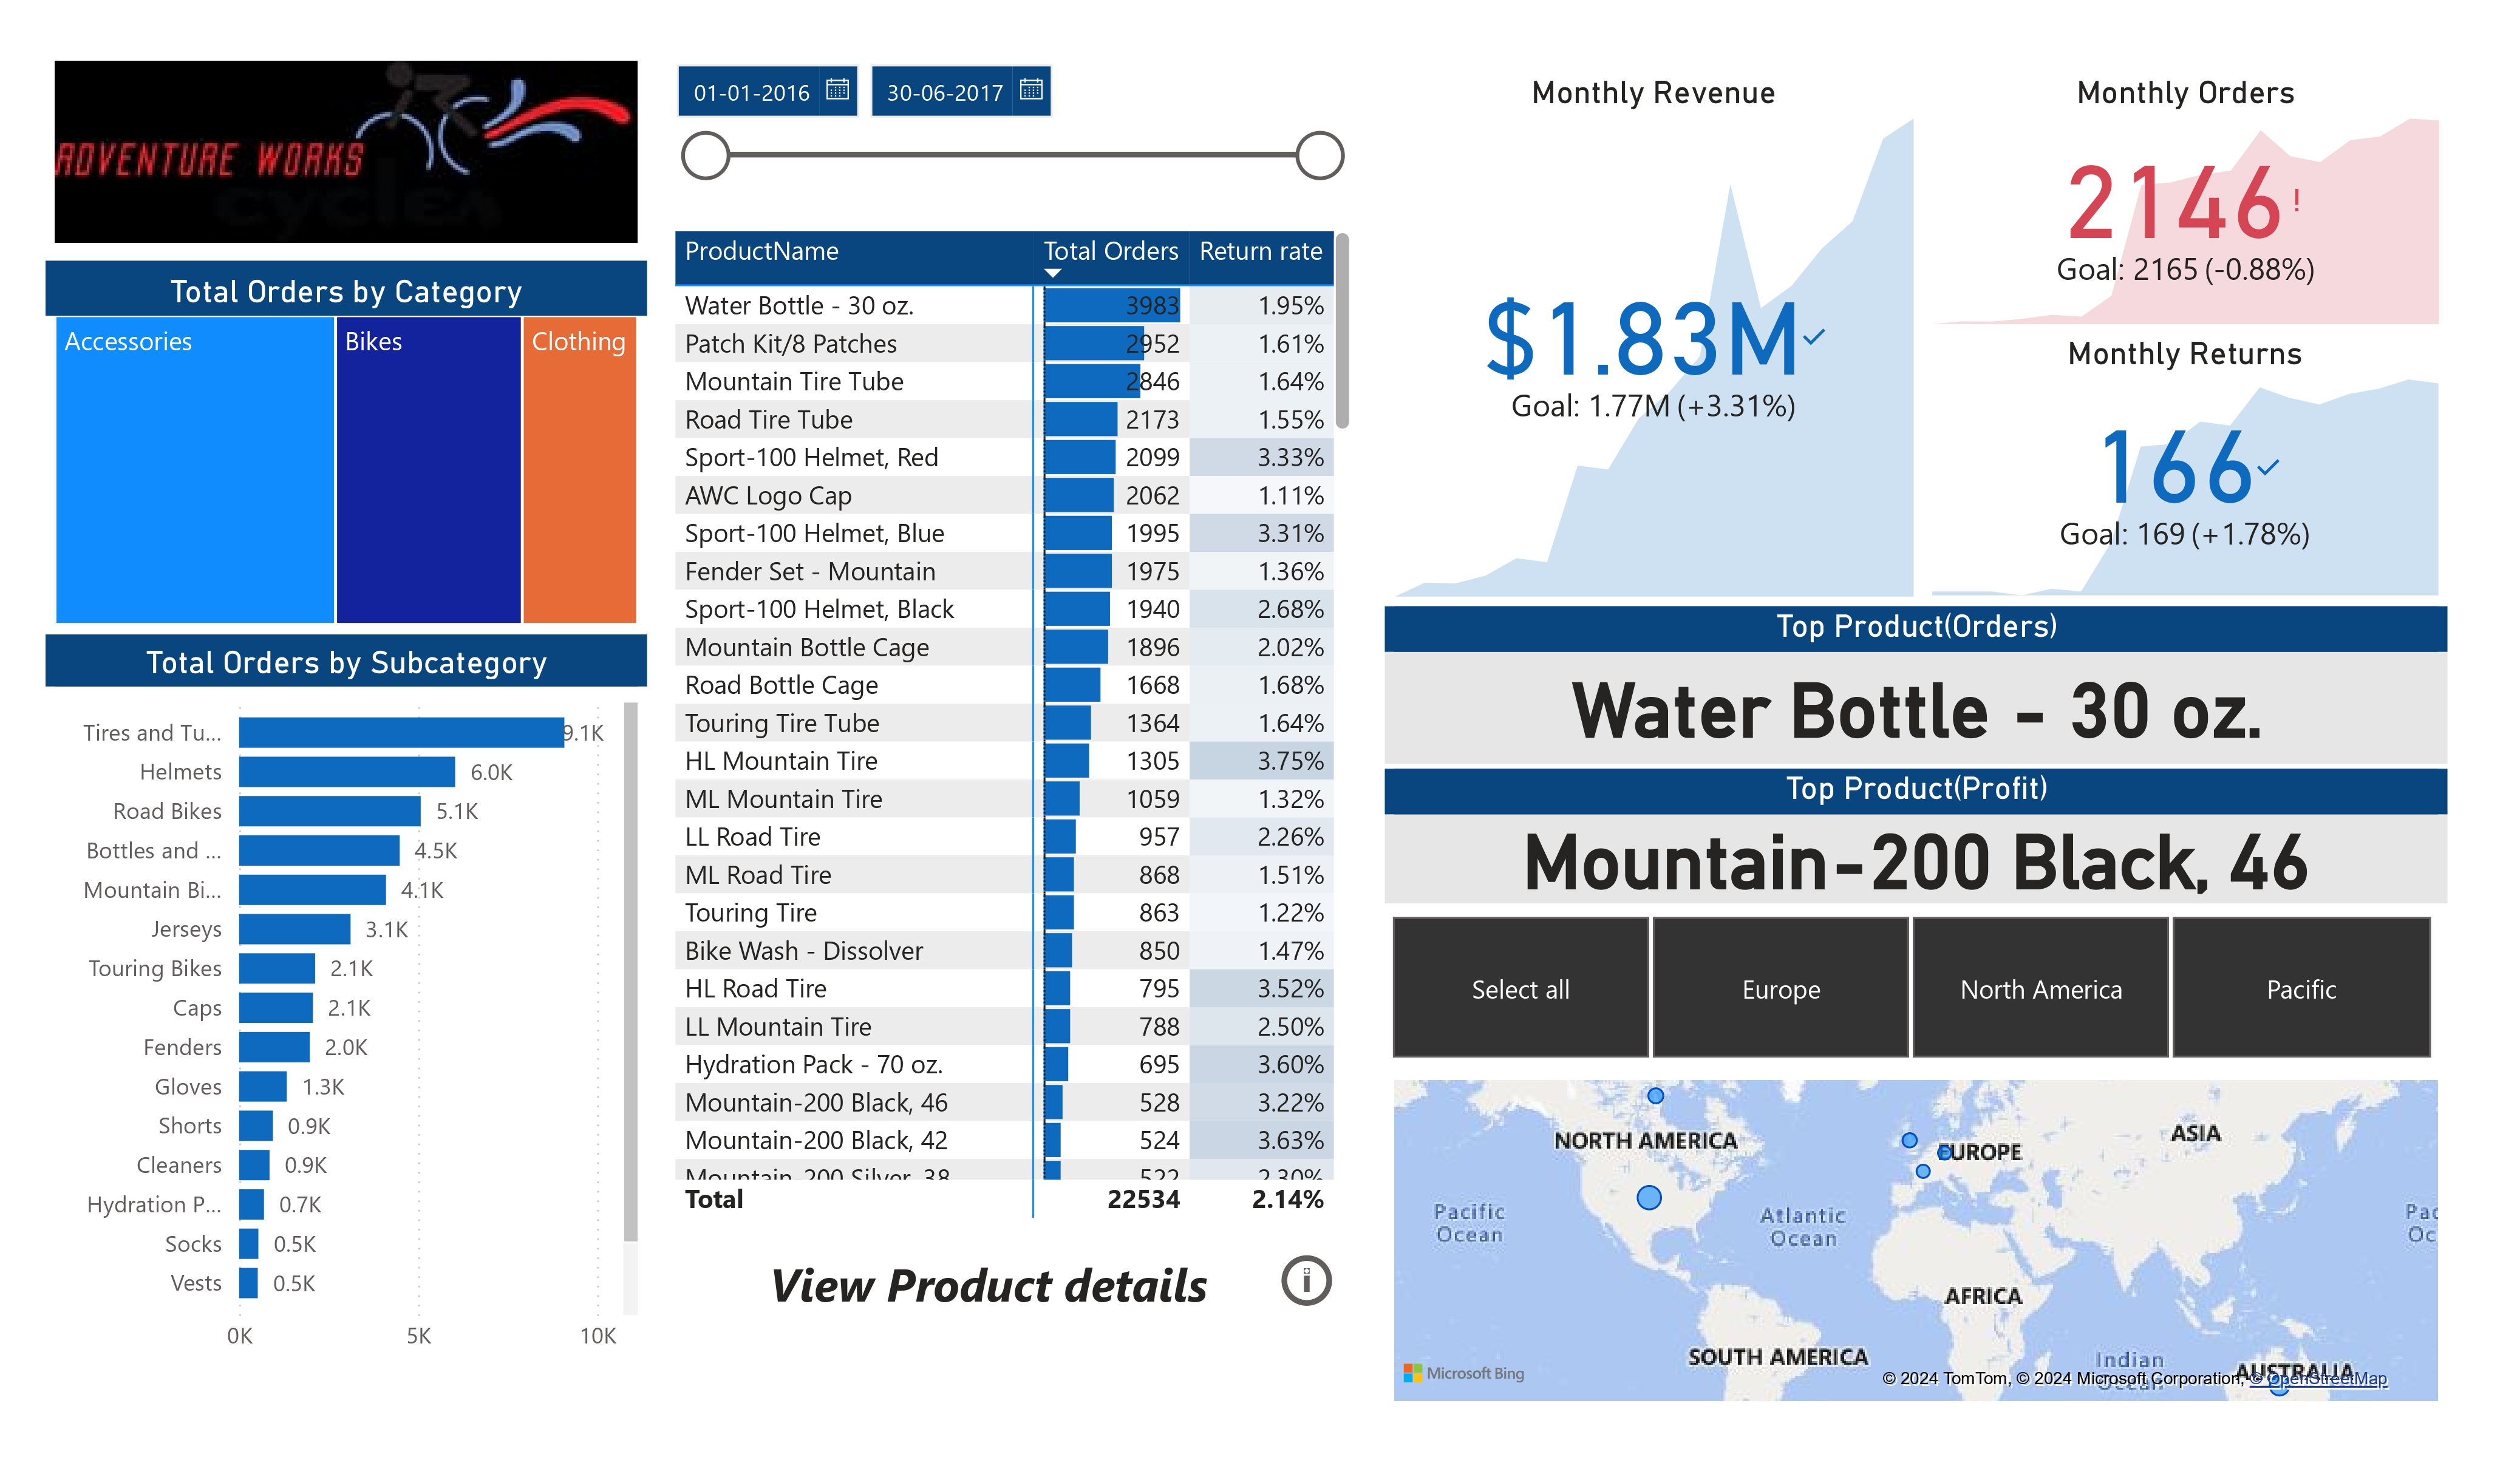

The page's visual inventory and layout, read from the dashboard file:
{"tool":"powerbi","page":{"name":"Exec Summary","canvas":[1280,720],"ordinal":0},"visuals":[{"type":"image","box":[0,0,317.4,112.8],"z":0},{"type":"barChart","title":"Total Orders by Subcategory","fields":{"Category":["AW_Product_Subcategory_Lookup.SubcategoryName"],"Y":["AW_Sales_csv.Total Ordes"]},"box":[0,309.3,317.4,389.5],"z":1000},{"type":"treemap","title":"Total Orders by Category","fields":{"Group":["AW_Product_Category_Lookup.CategoryName","AW_Product_Subcategory_Lookup.SubcategoryName"],"Values":["AW_Sales_csv.Total Orders"]},"box":[0,112.9,317,196.9],"z":2000},{"type":"pivotTable","fields":{"Values":["AW_Sales_csv.Total Orders","AW_Returns.Return rate"],"Rows":["AW_Product_Category_Lookup.CategoryName","AW_Product_Subcategory_Lookup.SubcategoryName","AW_Product_Lookup.ProductName"]},"box":[326.6,92.5,366.2,529.5],"z":3000},{"type":"slicer","fields":{"Values":["AW_Calender_Lookup.Date"]},"box":[319.8,0,373.3,94.2],"z":4000},{"type":"kpi","title":"Monthly Revenue","fields":{"Indicator":["AW_Sales_csv.Total Revenue"],"TrendLine":["AW_Calender_Lookup.Start of Month"],"Goal":["AW_Sales_csv.Prev Month Revenue"]},"box":[705.8,14,283.7,281.4],"z":5000},{"type":"kpi","title":"Monthly Returns","fields":{"TrendLine":["AW_Calender_Lookup.Start of Month"],"Indicator":["AW_Returns.Total returns"],"Goal":["AW_Sales_csv.Prev Month Returns"]},"box":[989.5,152.3,276.7,143],"z":6000},{"type":"kpi","title":"Monthly Orders","fields":{"TrendLine":["AW_Calender_Lookup.Start of Month"],"Indicator":["AW_Sales_csv.Total Orders"],"Goal":["AW_Sales_csv.Prev Month Orders"]},"box":[989.3,14.5,277.5,137.5],"z":7000},{"type":"card","title":"Top Product(Orders)","fields":{"Values":["Min(AW_Product_Lookup.ProductName)"]},"box":[705.8,295.3,560.5,82.6],"z":8000},{"type":"card","title":"Top Product(Profit)","fields":{"Values":["Min(AW_Product_Lookup.ProductName)"]},"box":[705.8,381.4,560.5,70.9],"z":9000},{"type":"slicer","fields":{"Values":["AW_Territories_Lookup.Continent"]},"box":[683.7,452.3,596.5,88.4],"z":10000},{"type":"map","fields":{"Category":["AW_Territories_Lookup.Country"],"Size":["AW_Sales_csv.Total Orders"]},"box":[705.8,540.7,560.5,179.1],"z":11000},{"type":"textbox","box":[353,630.4,287,46.8],"z":12000},{"type":"actionButton","box":[647.2,630.4,36,39.6],"z":13000}]}

Visuals, with their boxes in screenshot pixels (x1, y1, x2, y2):
image: 46, 46, 648, 260
"Total Orders by Subcategory" barChart: 46, 633, 648, 1371
"Total Orders by Category" treemap: 46, 260, 647, 633
pivotTable - AW_Sales_csv.Total Orders x AW_Returns.Return rate: 666, 221, 1360, 1226
slicer - AW_Calender_Lookup.Date: 652, 46, 1361, 224
"Monthly Revenue" kpi: 1385, 72, 1923, 606
"Monthly Returns" kpi: 1923, 335, 2448, 606
"Monthly Orders" kpi: 1923, 73, 2450, 334
"Top Product(Orders)" card: 1385, 606, 2448, 762
"Top Product(Profit)" card: 1385, 769, 2448, 903
slicer - AW_Territories_Lookup.Continent: 1343, 903, 2474, 1072
map - AW_Territories_Lookup.Country x AW_Sales_csv.Total Orders: 1385, 1072, 2448, 1411
textbox: 715, 1241, 1260, 1330
actionButton: 1274, 1241, 1342, 1317
